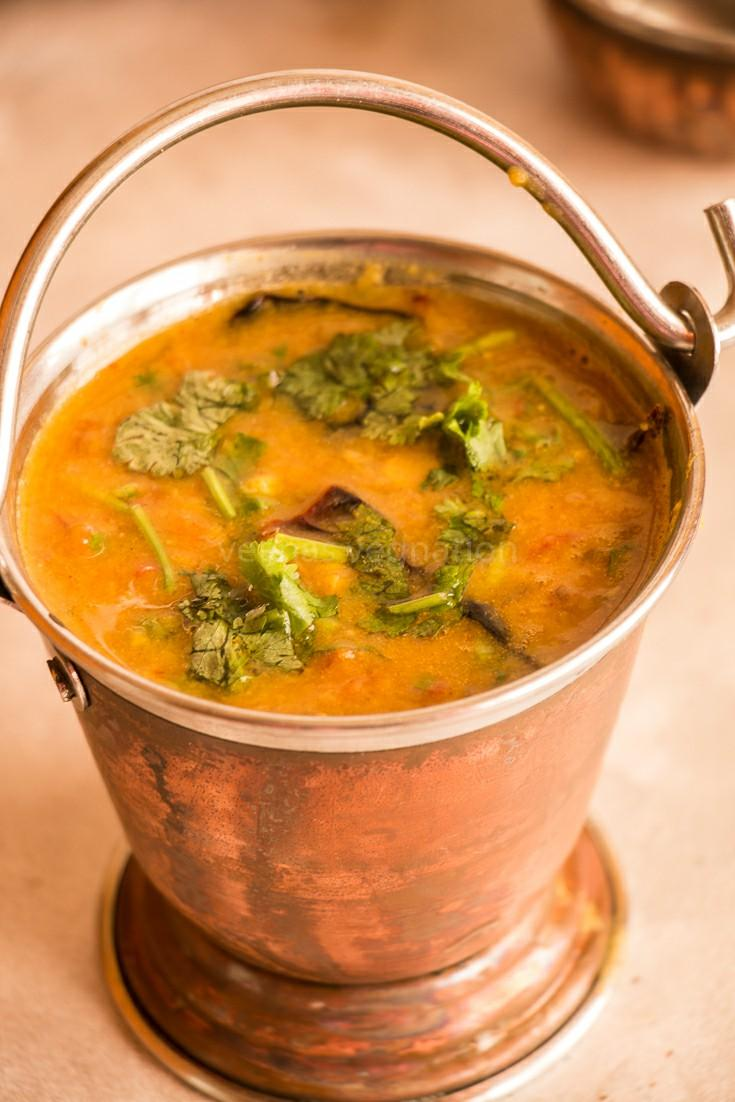Dal: (21, 278, 669, 715)
